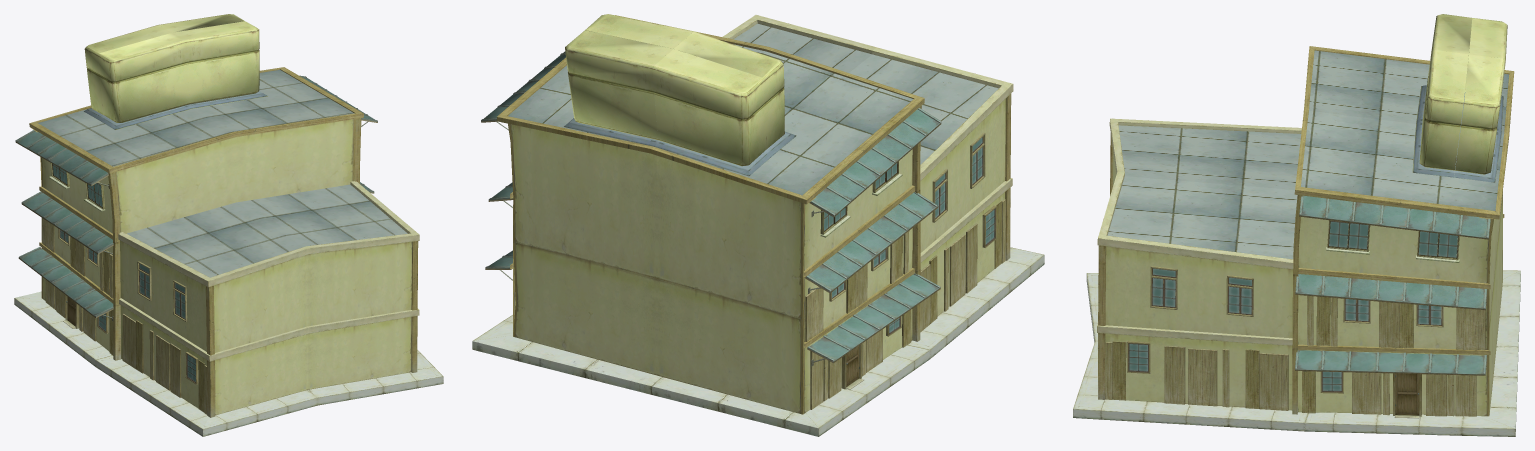
The model's file is House1.fbx.
3 renders of one model, left to right at view 1: azimuth 30°, elevation 25°; view 2: azimuth 150°, elevation 25°; view 3: azimuth 270°, elevation 25°, orthographic. The views are drawn at different scales.
Parts seen in each view (by area): view 1: Mesh_0087, Object02, Mesh_0088, Mesh_0085, Object01, Object03, Mesh_0070, Mesh_0086; view 2: Mesh_0087, Mesh_0085, Object01, Mesh_0088, Object03, Mesh_0070, Mesh_0086; view 3: Mesh_0087, Mesh_0088, Mesh_0085, Object03, Object01, Mesh_0070, Mesh_0086.
Part boxes in pixels (<box>): Mesh_0087: <box>29,67,418,417</box>; Object02: <box>214,242,412,415</box>; Mesh_0088: <box>38,70,407,277</box>; Mesh_0085: <box>15,75,419,414</box>; Object01: <box>84,14,267,129</box>; Object03: <box>14,291,443,436</box>; Mesh_0070: <box>53,164,195,381</box>; Mesh_0086: <box>49,163,105,328</box>; Mesh_0087: <box>497,15,1011,414</box>; Mesh_0085: <box>481,15,1013,409</box>; Object01: <box>564,14,796,176</box>; Mesh_0088: <box>508,23,998,195</box>; Object03: <box>472,247,1044,436</box>; Mesh_0070: <box>824,137,994,332</box>; Mesh_0086: <box>820,161,902,389</box>; Mesh_0087: <box>1098,46,1514,416</box>; Mesh_0088: <box>1107,50,1508,259</box>; Mesh_0085: <box>1097,118,1490,416</box>; Object03: <box>1073,270,1520,436</box>; Object01: <box>1412,14,1507,182</box>; Mesh_0070: <box>1129,221,1457,390</box>; Mesh_0086: <box>1326,220,1459,418</box>.
Size of the model in its own units: 18821 by 16136 by 21373.
5 materials, 5 textured.
